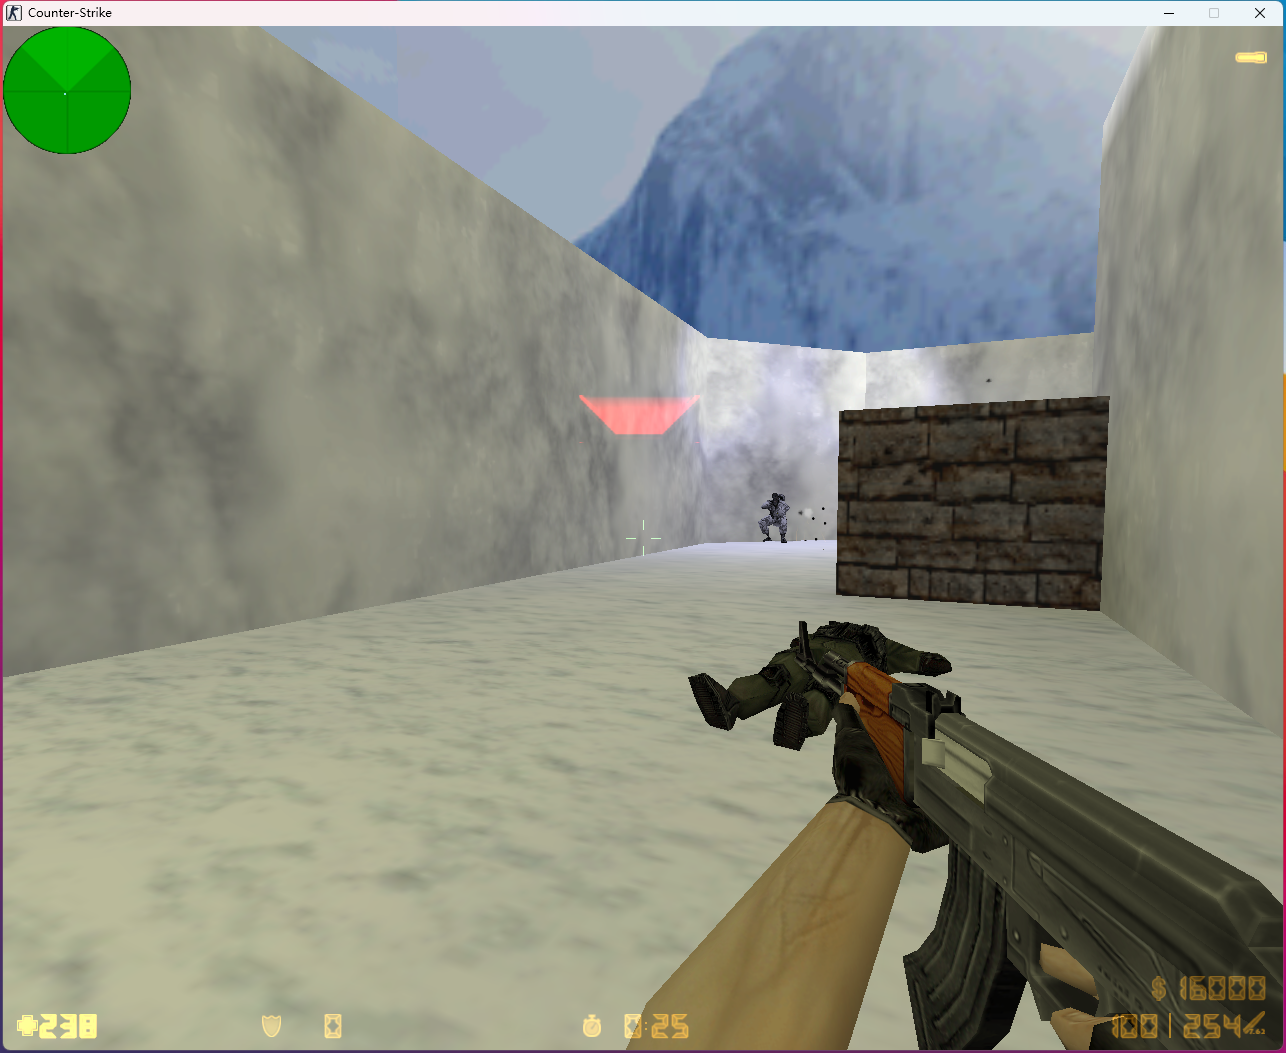T: (758, 493, 789, 545)
dead: (688, 617, 952, 755)
